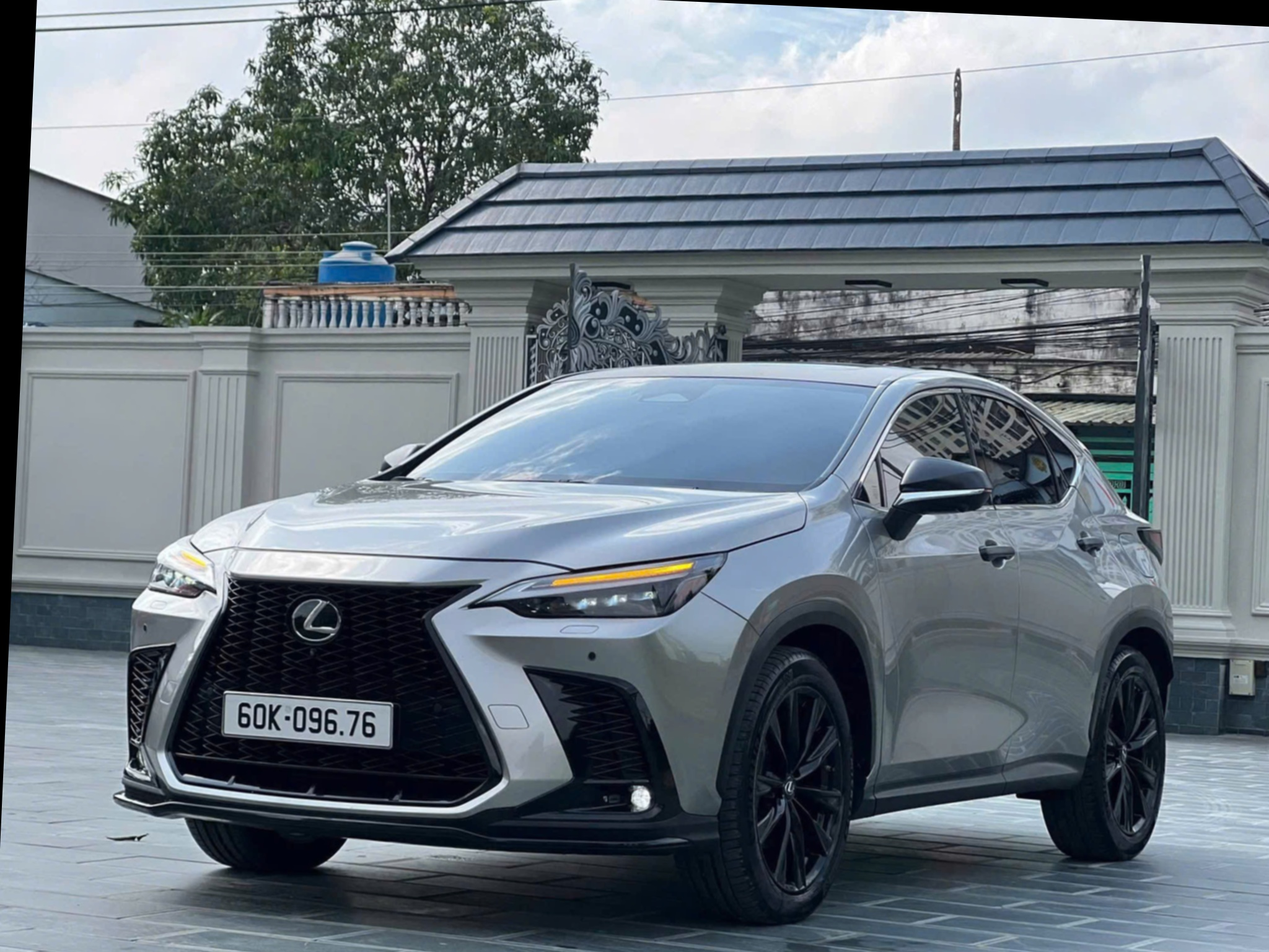Bien-so: (220, 694, 401, 750)
